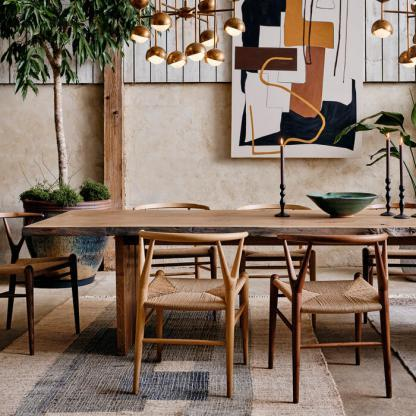chair: (119, 217, 252, 407), (263, 222, 399, 406), (224, 192, 327, 328), (0, 208, 89, 356), (142, 198, 214, 323), (353, 194, 416, 326)
light: (147, 0, 167, 72), (394, 2, 414, 68), (182, 5, 205, 61), (366, 0, 396, 42), (207, 2, 225, 70), (194, 3, 220, 50), (167, 0, 183, 74), (225, 0, 247, 47), (129, 0, 148, 42), (403, 4, 416, 61), (151, 0, 172, 34), (127, 0, 152, 20)
table: (27, 191, 416, 355)
